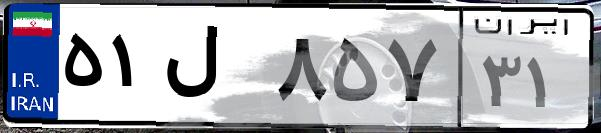1: (525, 38, 570, 115), (110, 28, 158, 98)
3: (475, 38, 525, 113)
5: (330, 28, 385, 110), (57, 26, 110, 100)
7: (385, 28, 445, 110)
8: (270, 28, 330, 110)
ل: (158, 20, 270, 120)
